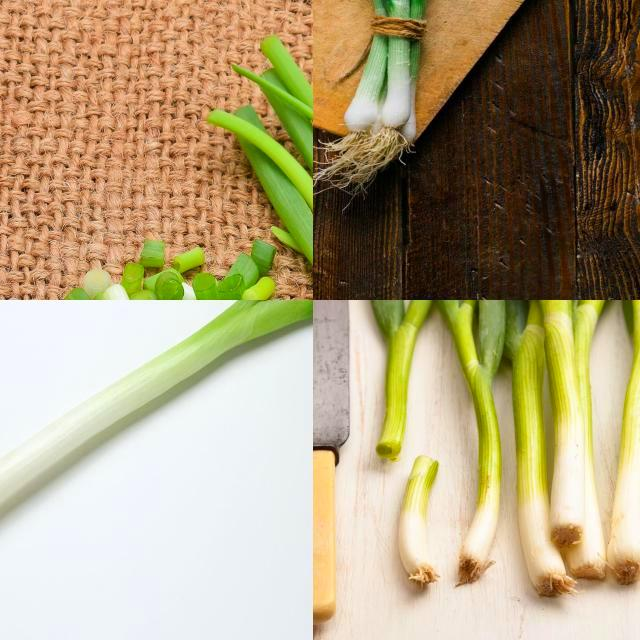green_onion: (315, 302, 640, 640), (0, 302, 312, 514), (208, 35, 313, 264), (65, 240, 276, 300), (592, 302, 634, 536)
